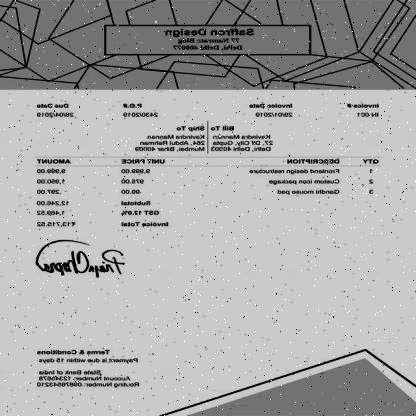Paragraph: (33, 347, 144, 391), (34, 198, 172, 230), (164, 27, 256, 52), (132, 124, 208, 152), (208, 124, 276, 154), (246, 100, 296, 120), (33, 100, 77, 121), (343, 100, 384, 120), (121, 100, 160, 121)
Table: (34, 156, 382, 198)
